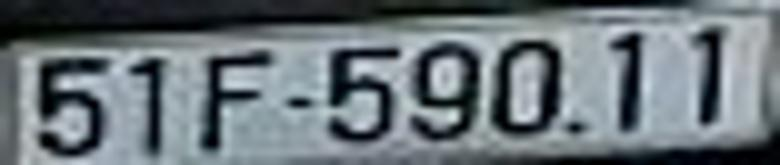-: (284, 90, 316, 114)
.: (564, 112, 592, 140)
0: (496, 32, 562, 137)
1: (129, 52, 169, 160), (609, 29, 647, 133), (691, 24, 725, 128)
5: (34, 54, 116, 157), (324, 42, 398, 144)
9: (412, 40, 481, 149)
F: (204, 48, 276, 154)
